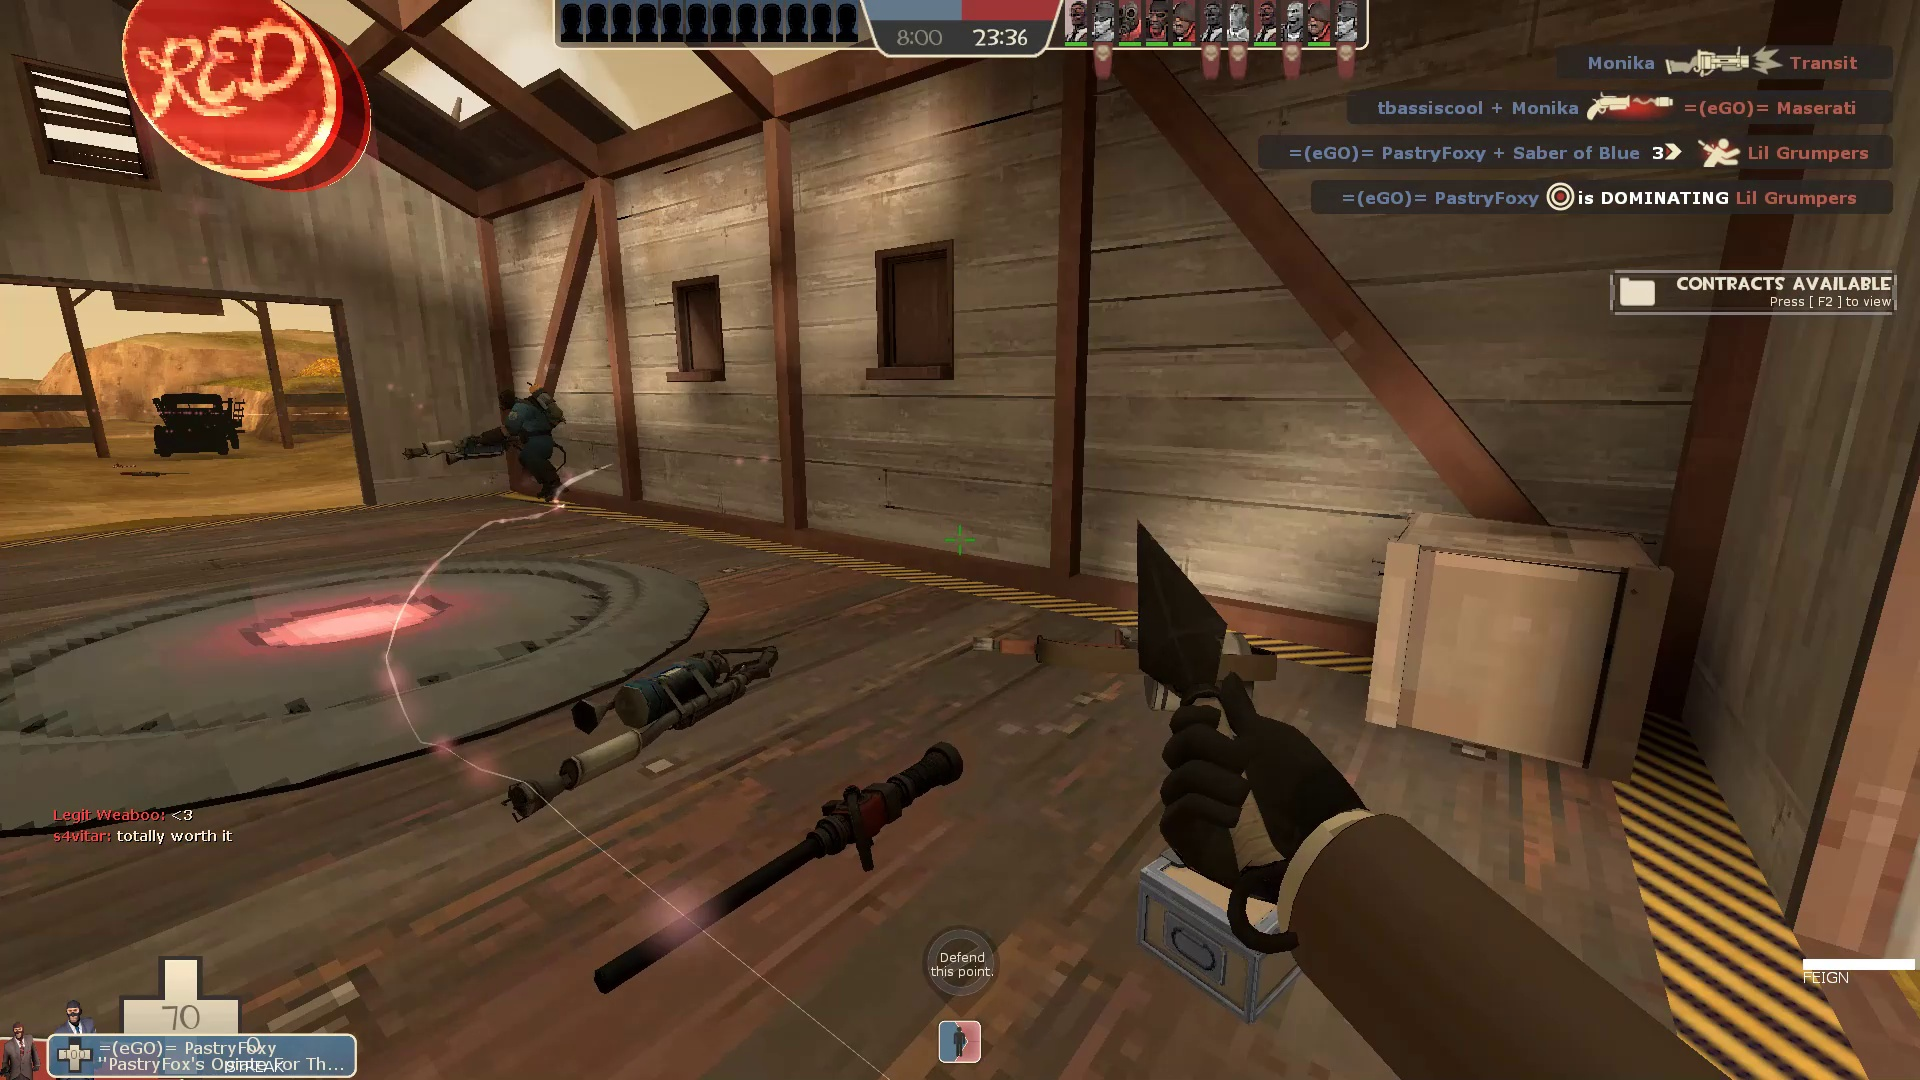blu_pyro: (406, 381, 575, 510)
